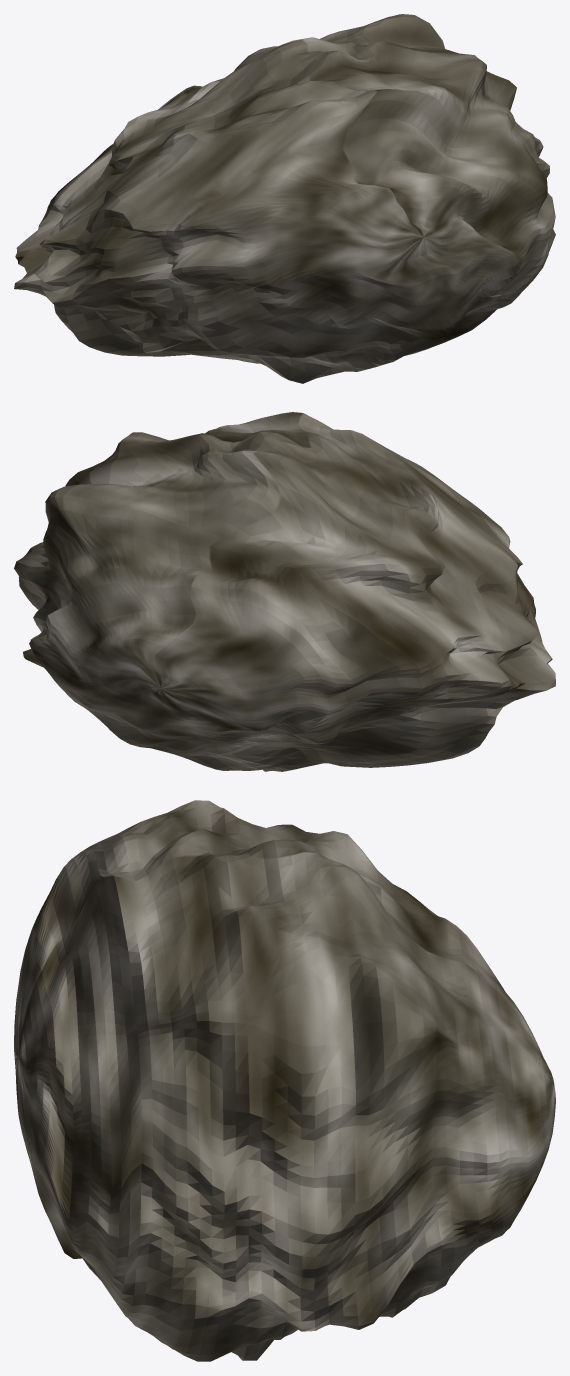
The model's file is meteo.obj.
3 views of the same model, one above another, from view 1: azimuth 30°, elevation 25°; view 2: azimuth 150°, elevation 25°; view 3: azimuth 270°, elevation 25° (orthographic). The views are drawn at different scales.
Parts seen in each view (by area): view 1: Sphere01; view 2: Sphere01; view 3: Sphere01.
Part boxes in pixels (x1,y1,x2,y2): Sphere01: [14, 14, 555, 383]; Sphere01: [14, 412, 555, 771]; Sphere01: [14, 800, 555, 1361].
Size of the model in its own units: 39.05 by 23.17 by 24.69.
1 material, 1 textured.
